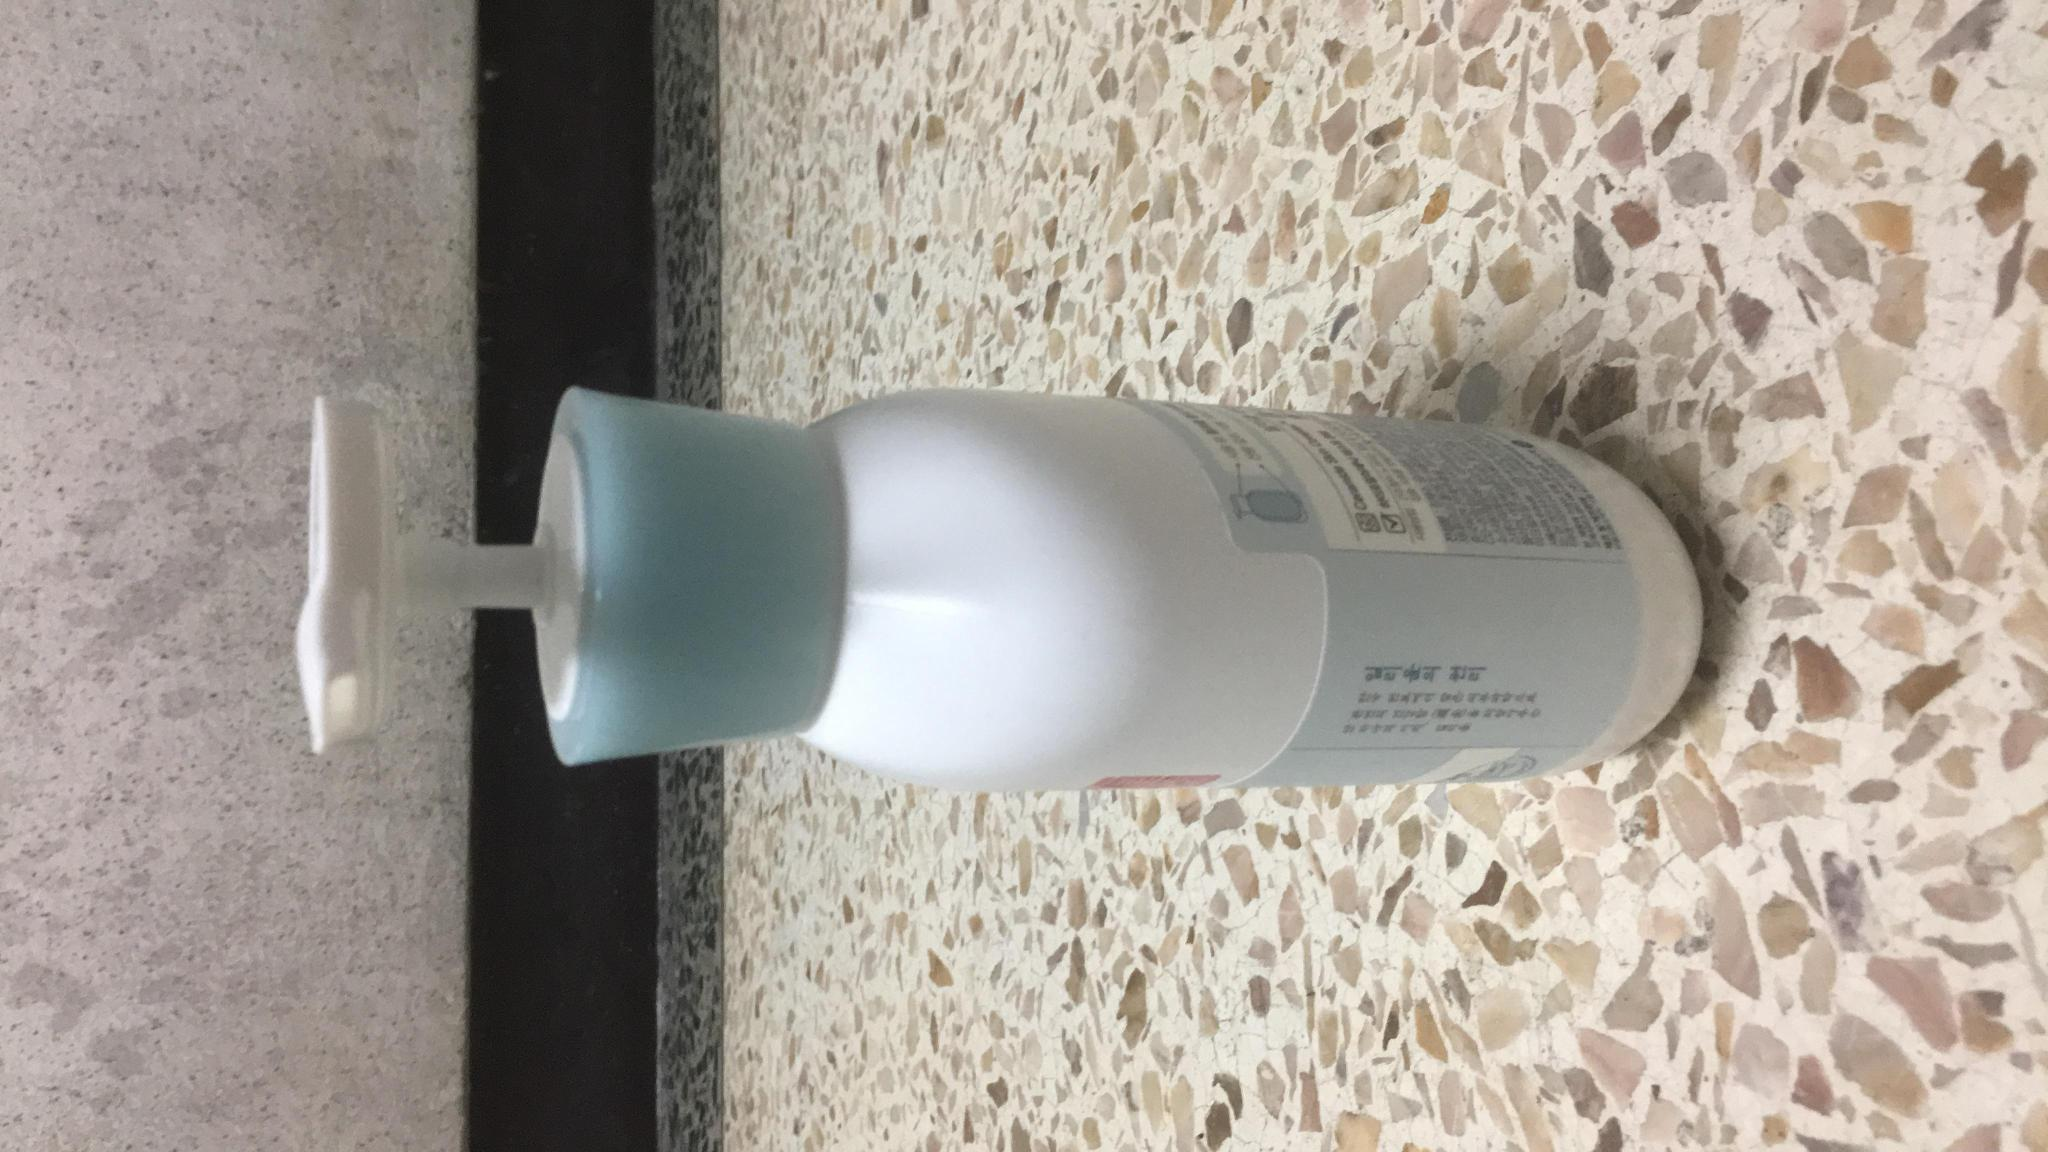bottle: (429, 97, 1453, 962)
